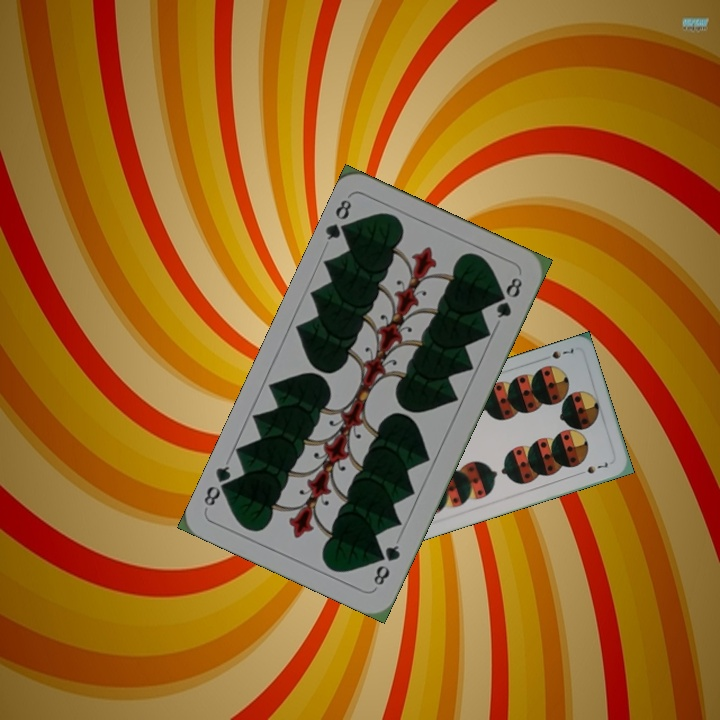G8: (321, 195, 356, 243), (369, 541, 403, 589)
S7: (548, 344, 576, 361)
